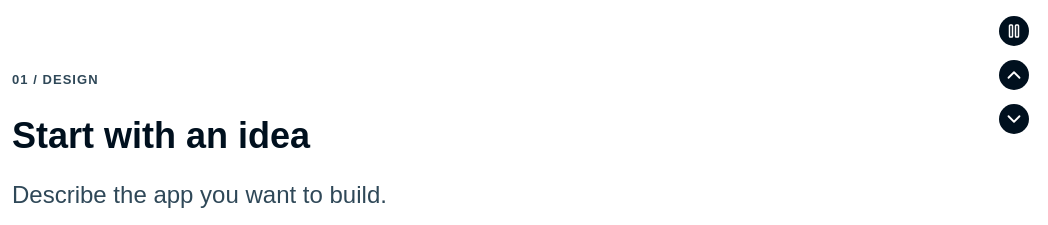
Test: LimeCarousel › wraps previous from first to last and next from last to first
Click the button named "Previous Build stories". click: {"x": 1014, "y": 75}
box: x1=992 y1=53 x2=1036 y2=97
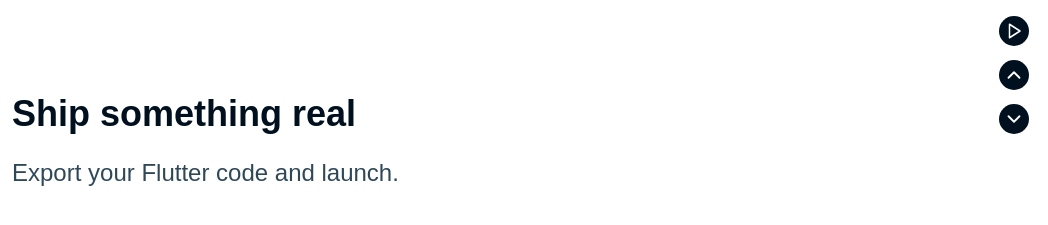
Click the button named "Next Build stories". click: {"x": 1014, "y": 119}
box: x1=992 y1=97 x2=1036 y2=141
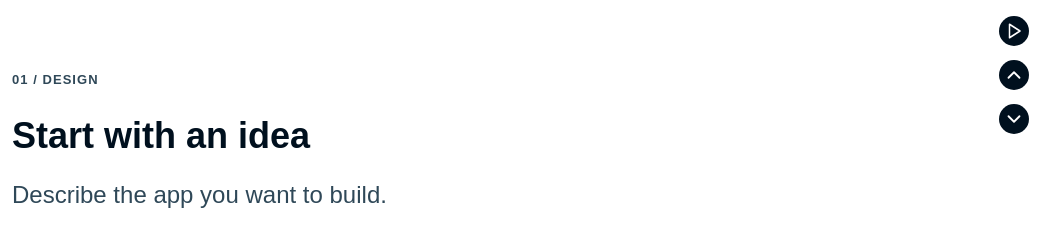
Check: the heading "Start with an idea" is shown, box x1=12 y1=115 x2=310 y2=156
Click the button named "Next Build stories". click: {"x": 1014, "y": 119}
box: x1=992 y1=97 x2=1036 y2=141
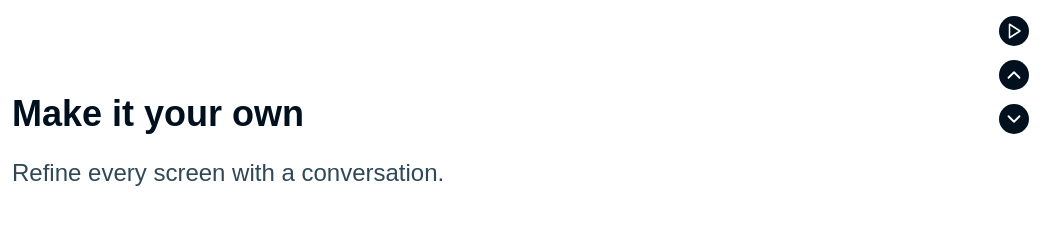
Check: the heading "Make it your own" is shown, box x1=12 y1=93 x2=304 y2=134
Check: the text "Refine every screen with a conversation." is shown, box x1=12 y1=159 x2=444 y2=186
